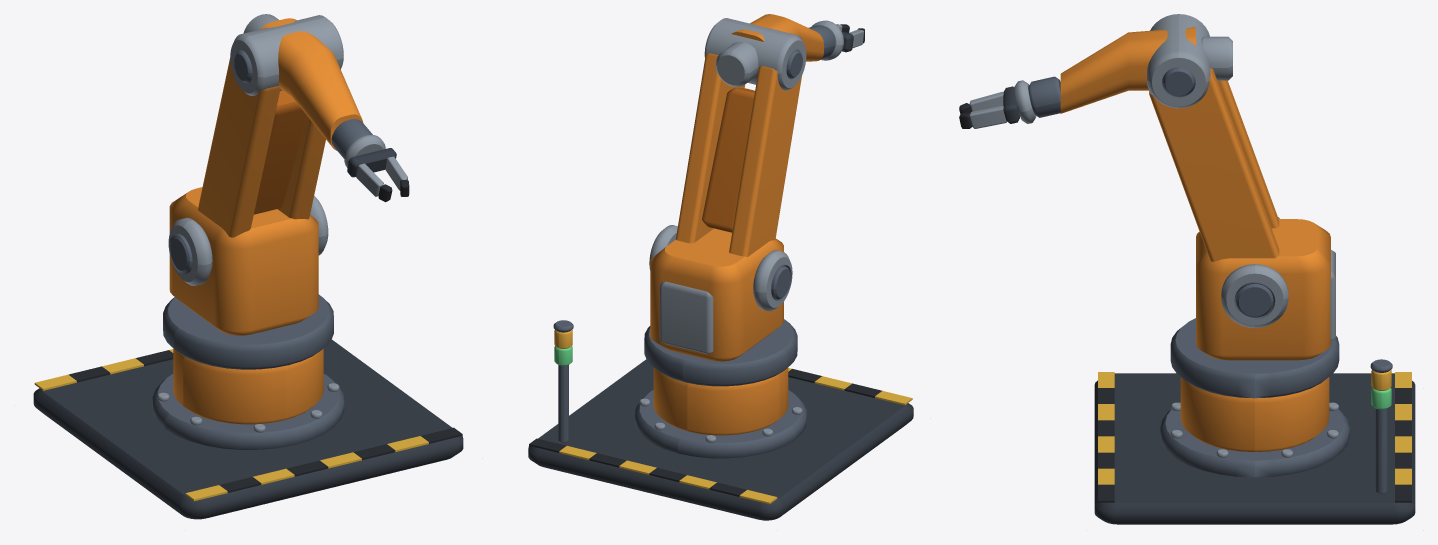
Rendered from bras_industriel.glb.
3 renders of one model, left to right at view 1: azimuth 30°, elevation 25°; view 2: azimuth 150°, elevation 25°; view 3: azimuth 270°, elevation 25°, orthographic. The views are drawn at different scales.
Parts seen in each view (by area): view 1: pieces_av_fonce.006, tourelle_av_orange.002, epaule_av_orange.002, pieces_av_orange.002, tourelle_av_sombre.002, pieces_av_sombre.006, coude_av_orange.002, coude_av_gris.002, epaule_av_orange_fonce.002, pieces_av_jaune.004, tourelle_av_gris.002, pieces_av_cable.002 (+3 smaller); view 2: pieces_av_fonce.006, epaule_av_orange.002, tourelle_av_orange.002, pieces_av_orange.002, pieces_av_sombre.006, tourelle_av_sombre.002, tourelle_av_gris.002, coude_av_gris.002, epaule_av_orange_fonce.002, pieces_av_jaune.004, pieces_av_cable.002, coude_av_orange.002 (+1 smaller); view 3: pieces_av_fonce.006, epaule_av_orange.002, tourelle_av_orange.002, pieces_av_orange.002, tourelle_av_sombre.002, pieces_av_sombre.006, coude_av_orange.002, coude_av_gris.002, tourelle_av_gris.002, pieces_av_cable.002, pieces_av_jaune.004, poignet_av_gris.002 (+3 smaller).
Part boxes in pixels (left/top/right/bottom): pieces_av_fonce.006: left=33, top=339, right=463, bottom=519; tourelle_av_orange.002: left=169, top=187, right=318, bottom=335; epaule_av_orange.002: left=198, top=57, right=325, bottom=237; pieces_av_orange.002: left=173, top=348, right=323, bottom=424; tourelle_av_sombre.002: left=163, top=234, right=333, bottom=369; pieces_av_sombre.006: left=152, top=374, right=344, bottom=449; coude_av_orange.002: left=260, top=18, right=363, bottom=150; coude_av_gris.002: left=230, top=14, right=343, bottom=95; epaule_av_orange_fonce.002: left=254, top=90, right=307, bottom=214; pieces_av_jaune.004: left=34, top=349, right=428, bottom=501; tourelle_av_gris.002: left=168, top=196, right=328, bottom=285; pieces_av_cable.002: left=68, top=350, right=462, bottom=492; pieces_av_fonce.006: left=528, top=359, right=913, bottom=520; epaule_av_orange.002: left=676, top=53, right=801, bottom=256; tourelle_av_orange.002: left=650, top=228, right=783, bottom=361; pieces_av_orange.002: left=653, top=367, right=788, bottom=435; pieces_av_sombre.006: left=553, top=320, right=806, bottom=458; tourelle_av_sombre.002: left=644, top=264, right=797, bottom=386; tourelle_av_gris.002: left=649, top=225, right=792, bottom=353; coude_av_gris.002: left=704, top=18, right=806, bottom=90; epaule_av_orange_fonce.002: left=702, top=87, right=754, bottom=232; pieces_av_jaune.004: left=559, top=368, right=912, bottom=504; pieces_av_cable.002: left=529, top=369, right=882, bottom=496; coude_av_orange.002: left=731, top=14, right=823, bottom=61; pieces_av_fonce.006: left=1094, top=373, right=1415, bottom=524; epaule_av_orange.002: left=1149, top=68, right=1279, bottom=261; tourelle_av_orange.002: left=1196, top=219, right=1330, bottom=360; pieces_av_orange.002: left=1180, top=377, right=1329, bottom=451; tourelle_av_sombre.002: left=1170, top=281, right=1339, bottom=398; pieces_av_sombre.006: left=1160, top=359, right=1392, bottom=493; coude_av_orange.002: left=1060, top=27, right=1195, bottom=113; coude_av_gris.002: left=1147, top=14, right=1232, bottom=108; tourelle_av_gris.002: left=1221, top=217, right=1335, bottom=340; pieces_av_cable.002: left=1098, top=388, right=1411, bottom=502; pieces_av_jaune.004: left=1098, top=372, right=1411, bottom=484; poignet_av_gris.002: left=969, top=80, right=1036, bottom=128.
Size of the model in its own units: 1 by 1.39 by 1.38.
